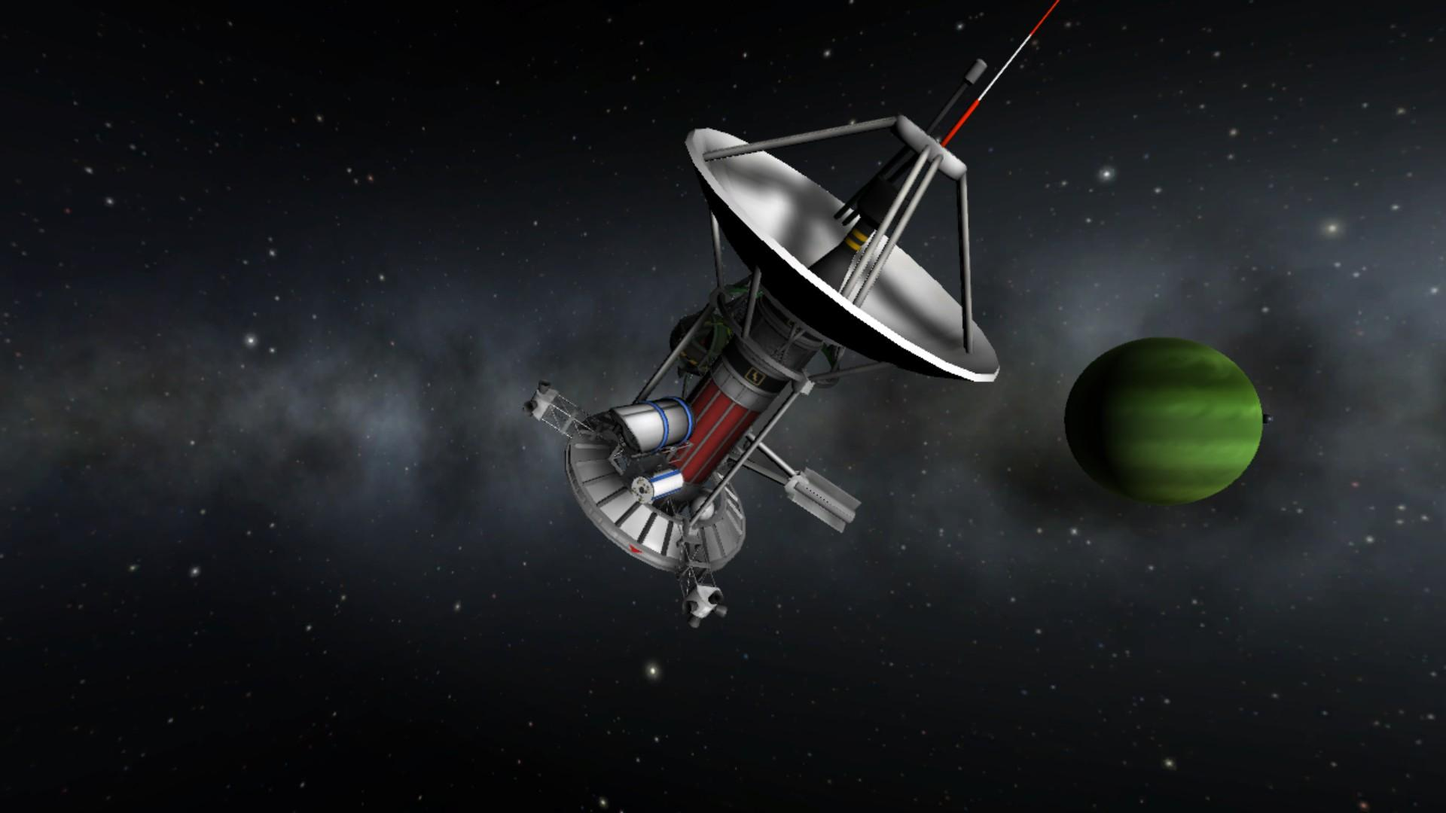antenna: (681, 0, 1061, 388)
thruster: (680, 598, 700, 616), (536, 376, 554, 395), (706, 589, 725, 607), (712, 604, 731, 620), (522, 398, 539, 414), (686, 615, 700, 629), (520, 406, 534, 419)
